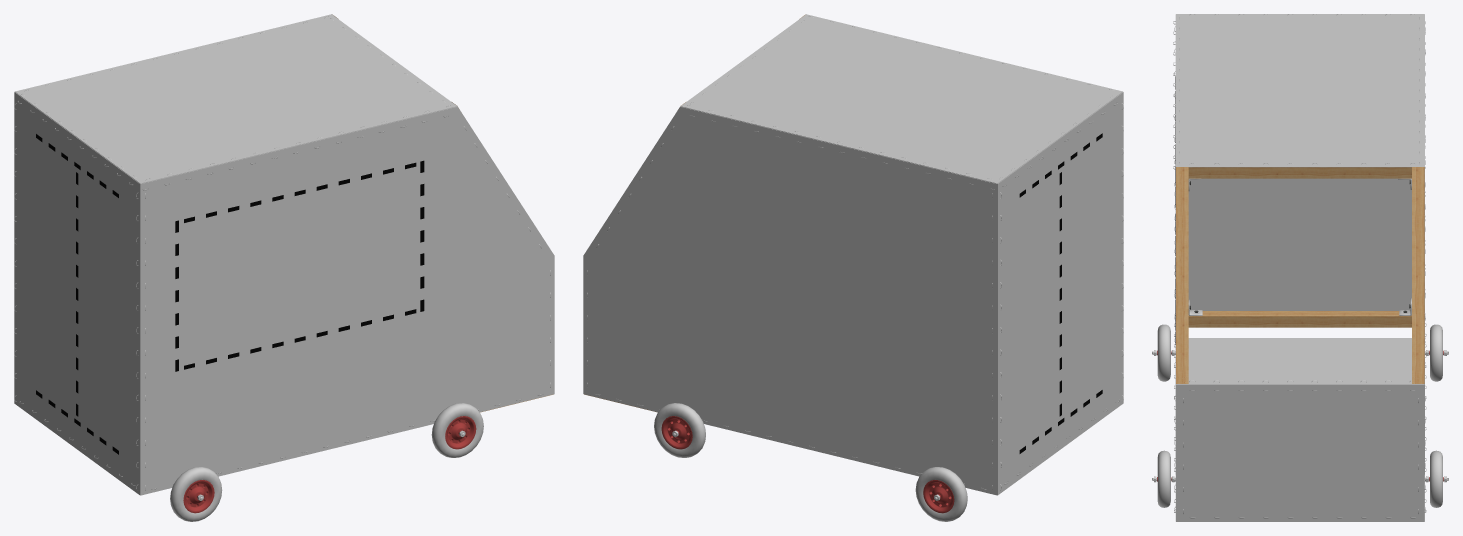
3 views of the same model, side by side, from view 1: azimuth 30°, elevation 25°; view 2: azimuth 150°, elevation 25°; view 3: azimuth 270°, elevation 25° (orthographic).
Visible parts, largest first — view 1: Плоскость.101, Плоскость.098, Плоскость.102, Плоскость.106, Wheel_Tire_0.009, Wheel_Tire_0.010, Wheel_PMetal_0.009, Wheel_PMetal_0.010; view 2: Плоскость.104, Плоскость.098, Плоскость.102, Плоскость.103, Wheel_Tire_0.008, Wheel_Tire_0.011, Wheel_PMetal_0.008, Wheel_PMetal_0.011; view 3: Плоскость.098, Плоскость.100, Плоскость.102, Плоскость.099, Куб.098, Куб.114, Куб.115, Куб.100, Wheel_Tire_0.010, Wheel_Tire_0.009, Wheel_Tire_0.011, Wheel_Tire_0.008.
Part boxes in pixels (left/top/right/bottom): Плоскость.101: left=140, top=106, right=457, bottom=495; Плоскость.098: left=15, top=14, right=457, bottom=183; Плоскость.102: left=14, top=92, right=140, bottom=495; Плоскость.106: left=457, top=106, right=554, bottom=412; Wheel_Tire_0.009: left=431, top=403, right=483, bottom=457; Wheel_Tire_0.010: left=170, top=467, right=222, bottom=521; Wheel_PMetal_0.009: left=445, top=416, right=476, bottom=449; Wheel_PMetal_0.010: left=183, top=480, right=214, bottom=513; Плоскость.104: left=680, top=106, right=997, bottom=495; Плоскость.098: left=680, top=14, right=1122, bottom=183; Плоскость.102: left=997, top=92, right=1123, bottom=495; Плоскость.103: left=583, top=106, right=680, bottom=412; Wheel_Tire_0.008: left=654, top=403, right=705, bottom=457; Wheel_Tire_0.011: left=915, top=467, right=967, bottom=521; Wheel_PMetal_0.008: left=661, top=416, right=692, bottom=449; Wheel_PMetal_0.011: left=923, top=480, right=954, bottom=513; Плоскость.098: left=1176, top=14, right=1424, bottom=167; Плоскость.100: left=1176, top=385, right=1424, bottom=521; Плоскость.102: left=1188, top=178, right=1411, bottom=310; Плоскость.099: left=1176, top=338, right=1424, bottom=384; Куб.098: left=1188, top=311, right=1411, bottom=327; Куб.114: left=1176, top=167, right=1188, bottom=383; Куб.115: left=1412, top=167, right=1424, bottom=383; Куб.100: left=1188, top=167, right=1411, bottom=178; Wheel_Tire_0.010: left=1157, top=324, right=1170, bottom=381; Wheel_Tire_0.009: left=1157, top=450, right=1170, bottom=507; Wheel_Tire_0.011: left=1430, top=324, right=1442, bottom=381; Wheel_Tire_0.008: left=1430, top=450, right=1442, bottom=507.
Size of the model in its own units: 3.02 by 2.4 by 1.89.
